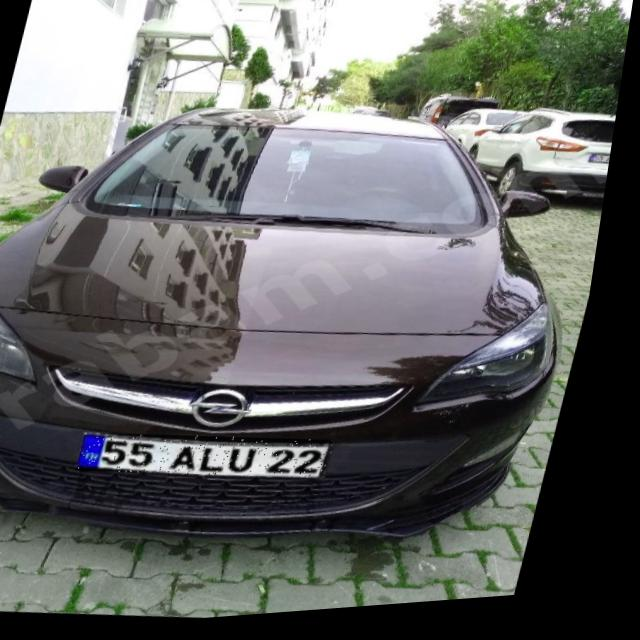license_plate: (86, 420, 351, 499)
